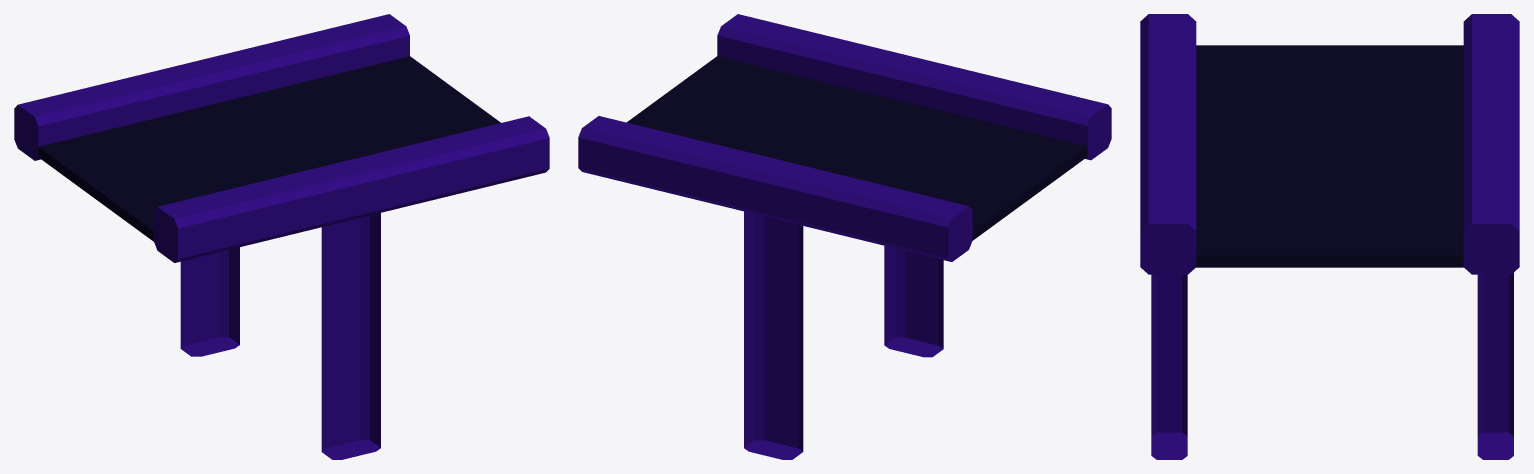
Rendered from StraightConveyor2.fbx.
3 views of the same model, side by side, from view 1: azimuth 30°, elevation 25°; view 2: azimuth 150°, elevation 25°; view 3: azimuth 270°, elevation 25° (orthographic). The views are drawn at different scales.
Parts seen in each view (by area): view 1: Cube.006; view 2: Cube.006; view 3: Cube.006.
Boxes of the visible parts, <box> form: Cube.006: <box>14,14,549,459</box>; Cube.006: <box>578,14,1111,459</box>; Cube.006: <box>1140,14,1519,459</box>.
Bounding box in the file's own units: 6.09 × 4.43 × 4.65.
